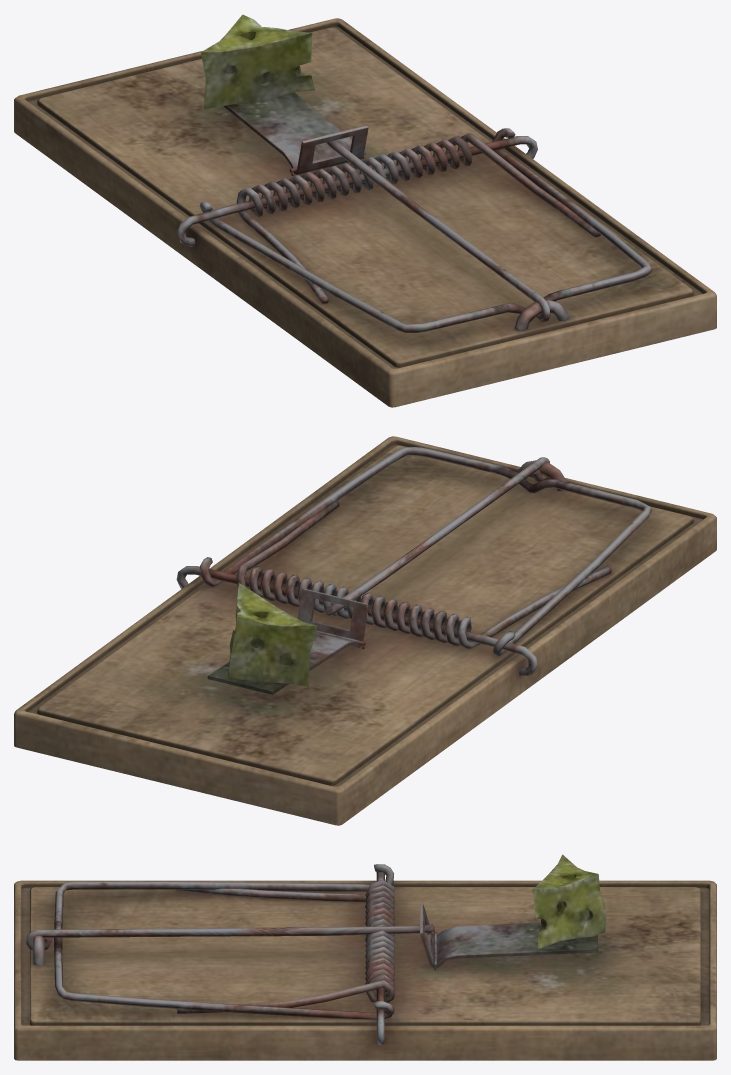
Rendered from mousetrap.glb.
The picture shows the model from 3 angles, top to bottom: view 1: azimuth 30°, elevation 25°; view 2: azimuth 150°, elevation 25°; view 3: azimuth 270°, elevation 25°; orthographic projection. The views are drawn at different scales.
Parts seen in each view (by area): view 1: mousetrap; view 2: mousetrap; view 3: mousetrap.
Part boxes in pixels (bbox=[...]): mousetrap: bbox=[14, 14, 716, 407]; mousetrap: bbox=[14, 436, 716, 825]; mousetrap: bbox=[14, 854, 716, 1060].
Bounding box in the file's own units: 0.055 × 0.0179 × 0.1004.
Materials: 1 (1 with a texture image).
